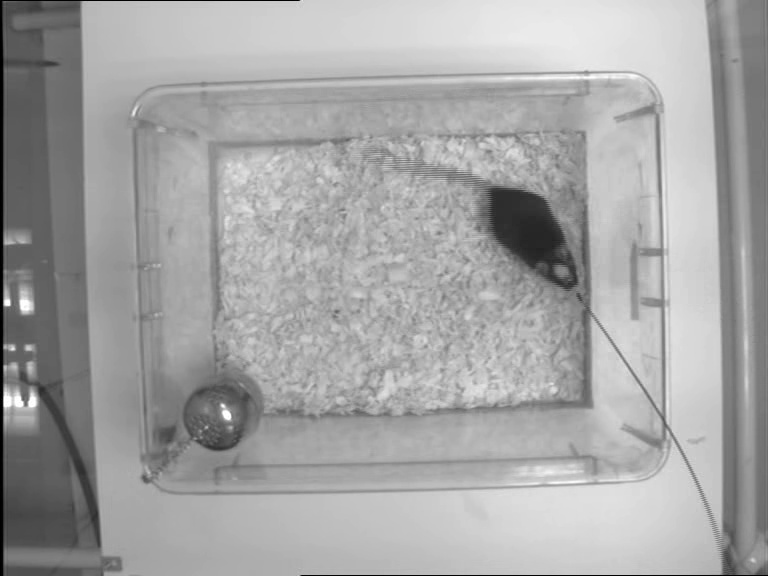mice: (387, 156, 580, 298)
